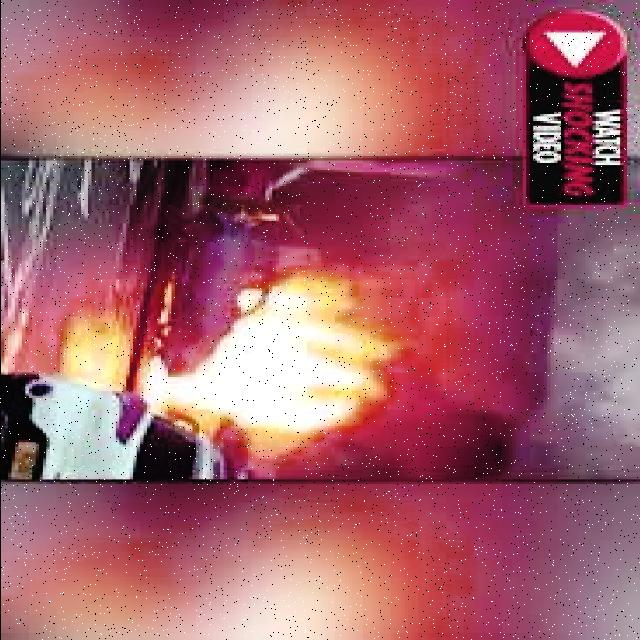api: (140, 278, 401, 457)
